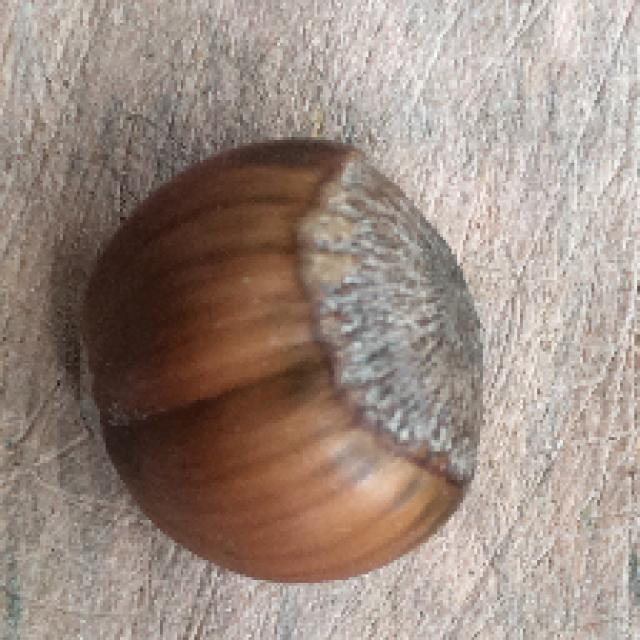qualityHazelnut: (77, 132, 486, 596)
